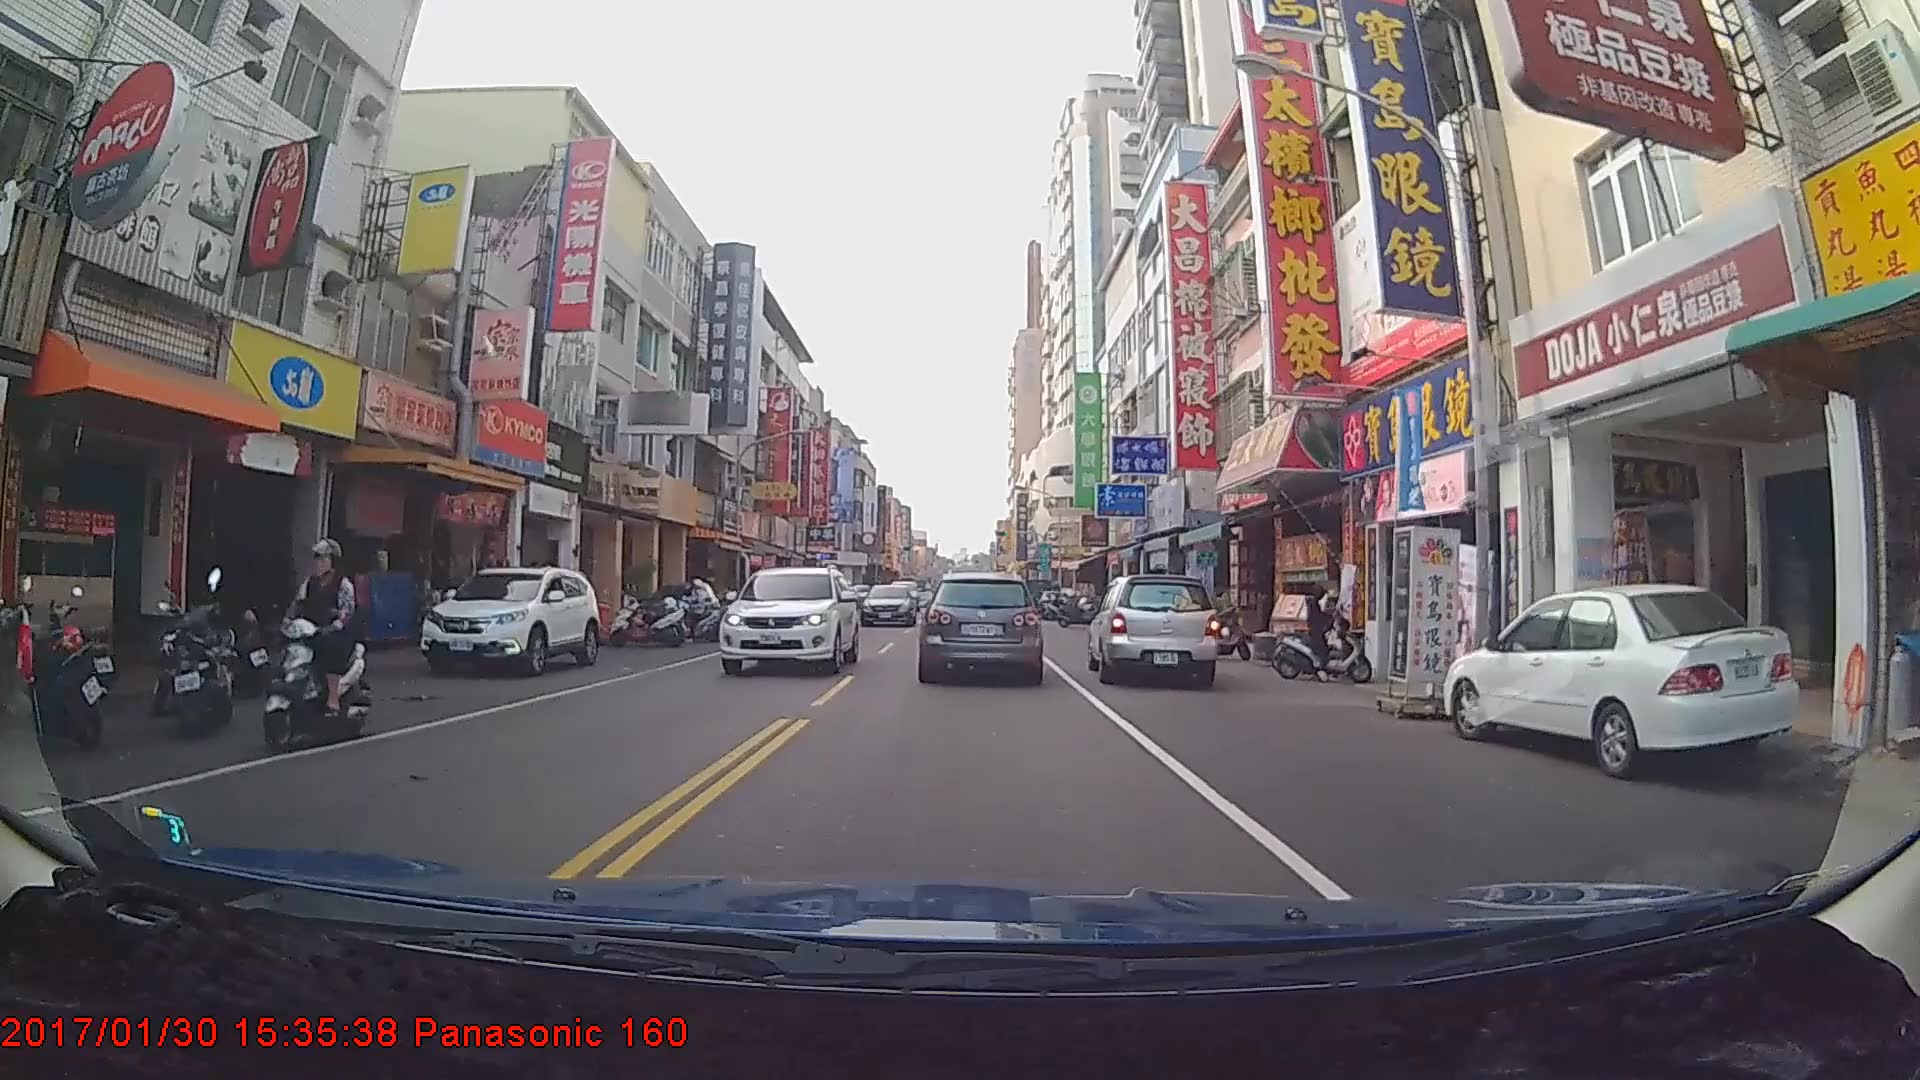rider: (258, 540, 374, 757), (1270, 577, 1379, 688)
vehicle: (1444, 585, 1802, 773), (416, 564, 601, 678), (720, 563, 860, 675), (1086, 572, 1218, 690), (921, 570, 1042, 681), (858, 583, 915, 627)
